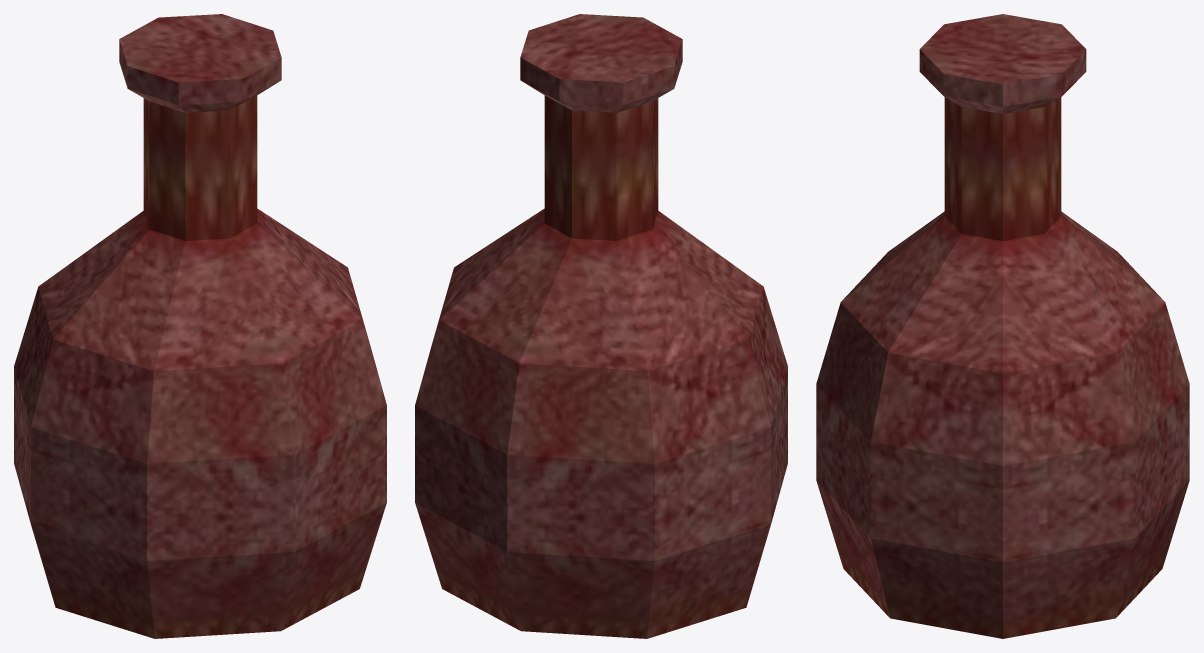
The model's file is GS_SOK_JABLKO_01_SZCZAWIK.glb.
The picture shows the model from 3 angles, left to right: view 1: azimuth 30°, elevation 25°; view 2: azimuth 150°, elevation 25°; view 3: azimuth 270°, elevation 25°; orthographic projection.
Parts seen in each view (by area): view 1: GS_SOK_JABLKO_01_SZCZAWIK; view 2: GS_SOK_JABLKO_01_SZCZAWIK; view 3: GS_SOK_JABLKO_01_SZCZAWIK.
Boxes of the visible parts, left/top/right/bottom form: GS_SOK_JABLKO_01_SZCZAWIK: left=14, top=14, right=386, bottom=638; GS_SOK_JABLKO_01_SZCZAWIK: left=415, top=14, right=787, bottom=638; GS_SOK_JABLKO_01_SZCZAWIK: left=816, top=14, right=1189, bottom=638.
Size of the model in its own units: 0.1911 by 0.2822 by 0.1838.
1 material, 1 textured.
